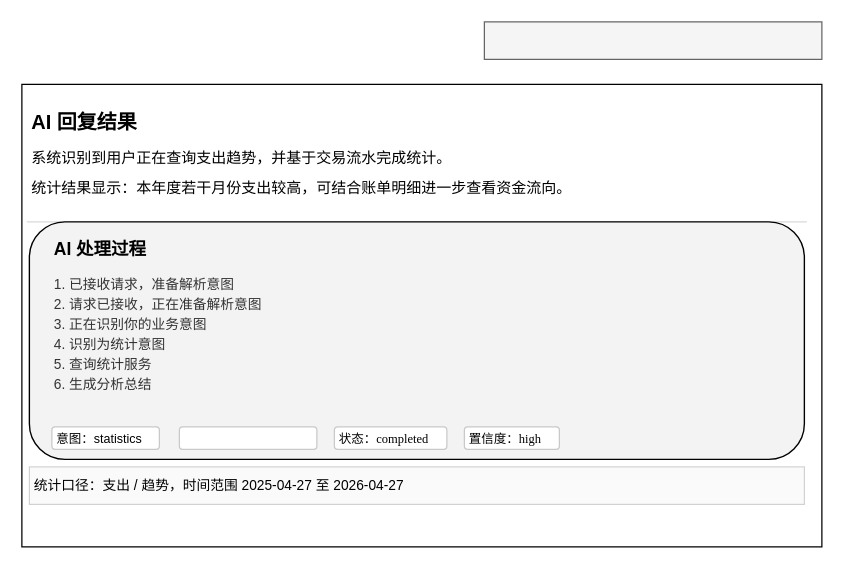
The diagram is 844 pixels wide and 569 high, and some of its shapes have lost their labels. Each missing label, with the centre of its shape:
"用户输入：看一下今年每个月的支出趋势" belongs at (x=652, y=40).
"能力： statistics_service" belongs at (x=247, y=437).
